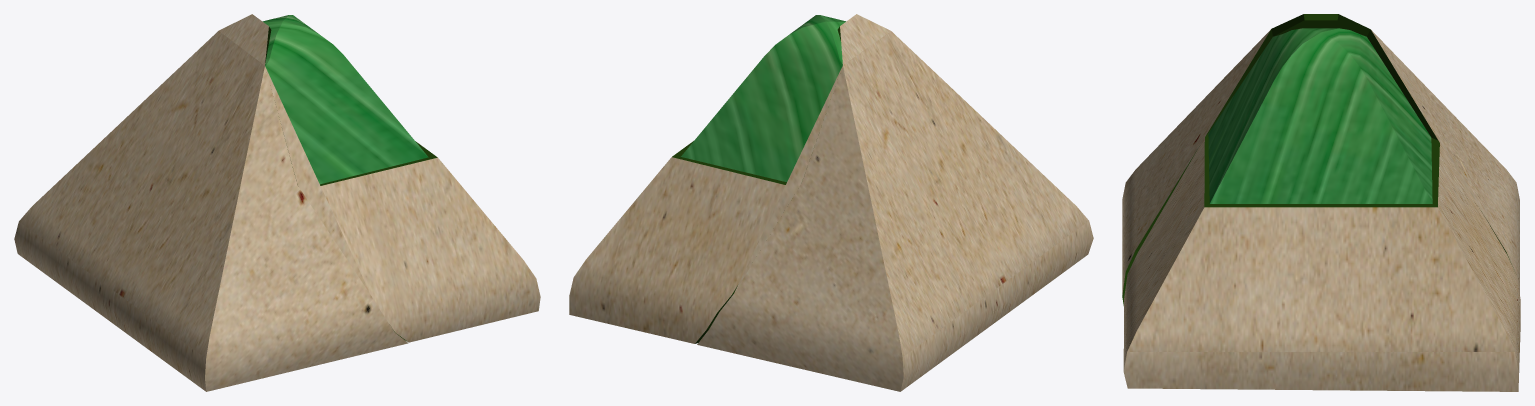
Rendered from nasi_lemak 2.glb.
3 renders of one model, left to right at view 1: azimuth 30°, elevation 25°; view 2: azimuth 150°, elevation 25°; view 3: azimuth 270°, elevation 25°, orthographic. The views are drawn at different scales.
Visible parts, largest first — view 1: luar, atas, daun; view 2: luar, atas, daun; view 3: luar, atas, daun.
Part boxes in pixels (left/top/right/bottom): luar: left=14, top=14, right=540, bottom=391; atas: left=262, top=15, right=428, bottom=184; daun: left=265, top=27, right=437, bottom=341; luar: left=569, top=14, right=1093, bottom=391; atas: left=681, top=15, right=845, bottom=182; daun: left=672, top=26, right=840, bottom=343; luar: left=1122, top=29, right=1520, bottom=391; atas: left=1208, top=28, right=1432, bottom=203; daun: left=1122, top=14, right=1513, bottom=305.
Bounding box in the file's own units: 0.9148 × 0.7062 × 0.8994.
Materials: 4 (2 with a texture image).
